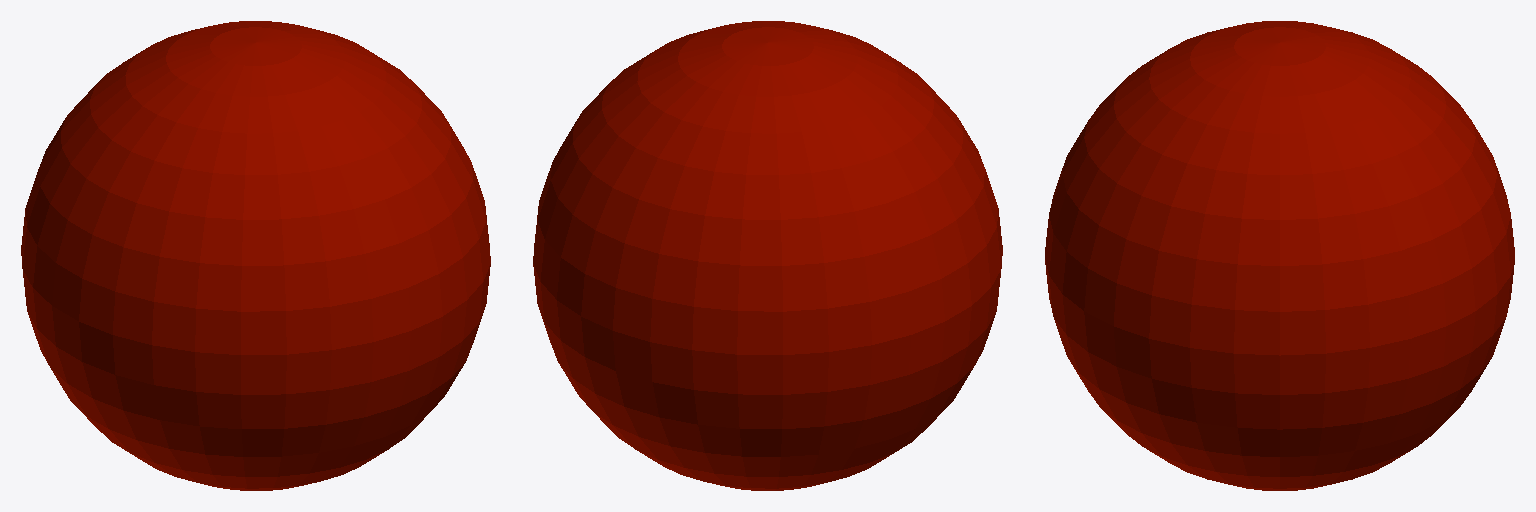
File: explosion.obj
3 views of the same model, side by side, from view 1: azimuth 30°, elevation 25°; view 2: azimuth 150°, elevation 25°; view 3: azimuth 270°, elevation 25° (orthographic).
Parts seen in each view (by area): view 1: Sphere_Sphere.008; view 2: Sphere_Sphere.008; view 3: Sphere_Sphere.008.
Boxes of the visible parts, x1,y1,x2,y2 form: Sphere_Sphere.008: [21, 21, 490, 490]; Sphere_Sphere.008: [533, 21, 1002, 490]; Sphere_Sphere.008: [1045, 21, 1514, 490].
Bounding box in the file's own units: 2.03 × 2.03 × 2.03.